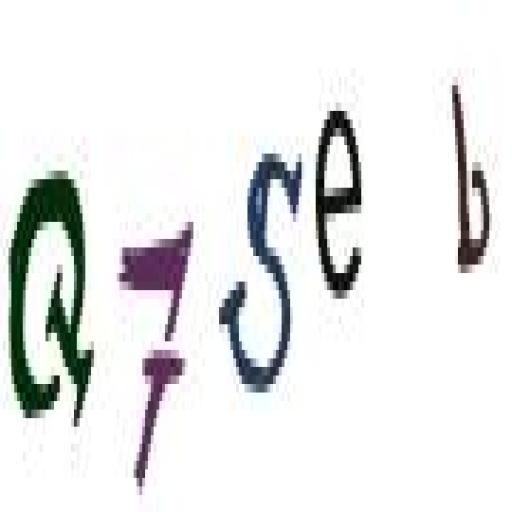7: (115, 213, 202, 492)
Q: (2, 153, 102, 440)
S: (218, 128, 308, 408)
b: (446, 62, 497, 286)
e: (311, 89, 372, 308)
